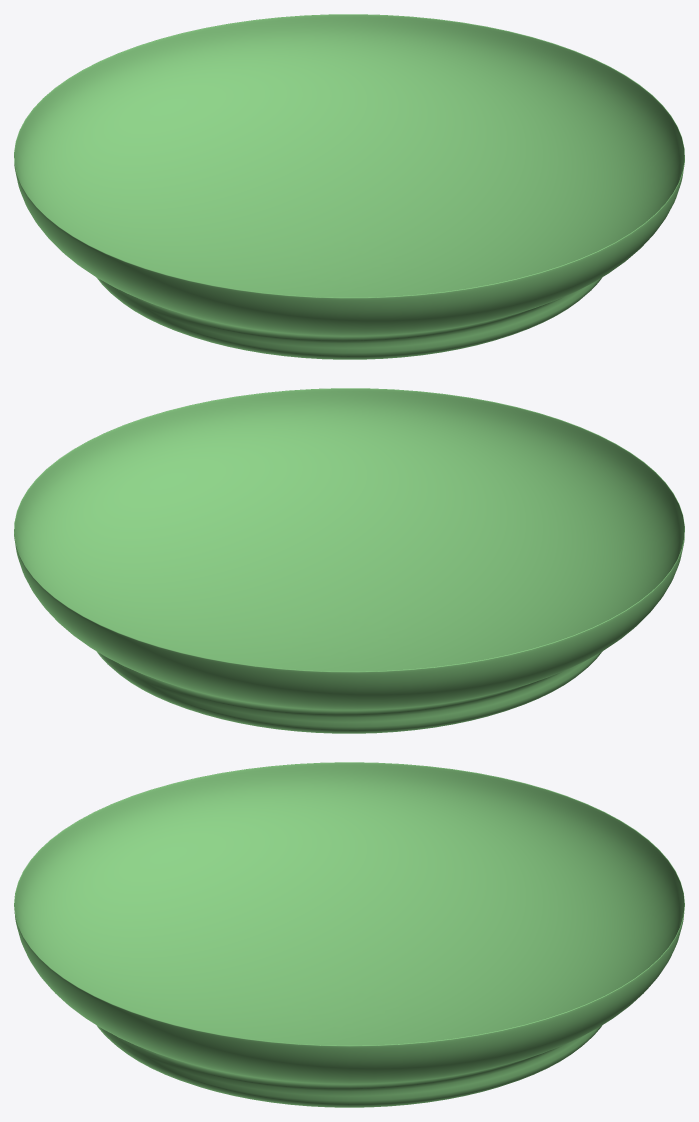
The model's file is stage_oj_002.fbx.
3 renders of one model, top to bottom at view 1: azimuth 30°, elevation 25°; view 2: azimuth 150°, elevation 25°; view 3: azimuth 270°, elevation 25°, orthographic.
Parts seen in each view (by area): view 1: pSphere1; view 2: pSphere1; view 3: pSphere1.
Part boxes in pixels (x1,y1,x2,y2): pSphere1: (14,14,684,359); pSphere1: (14,388,684,733); pSphere1: (14,762,684,1107).
Size of the model in its own units: 34.36 by 6.55 by 34.36.
